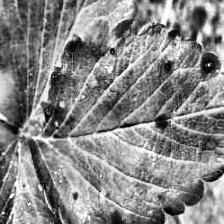Leaf Spot: (23, 14, 224, 224), (0, 117, 58, 224)
